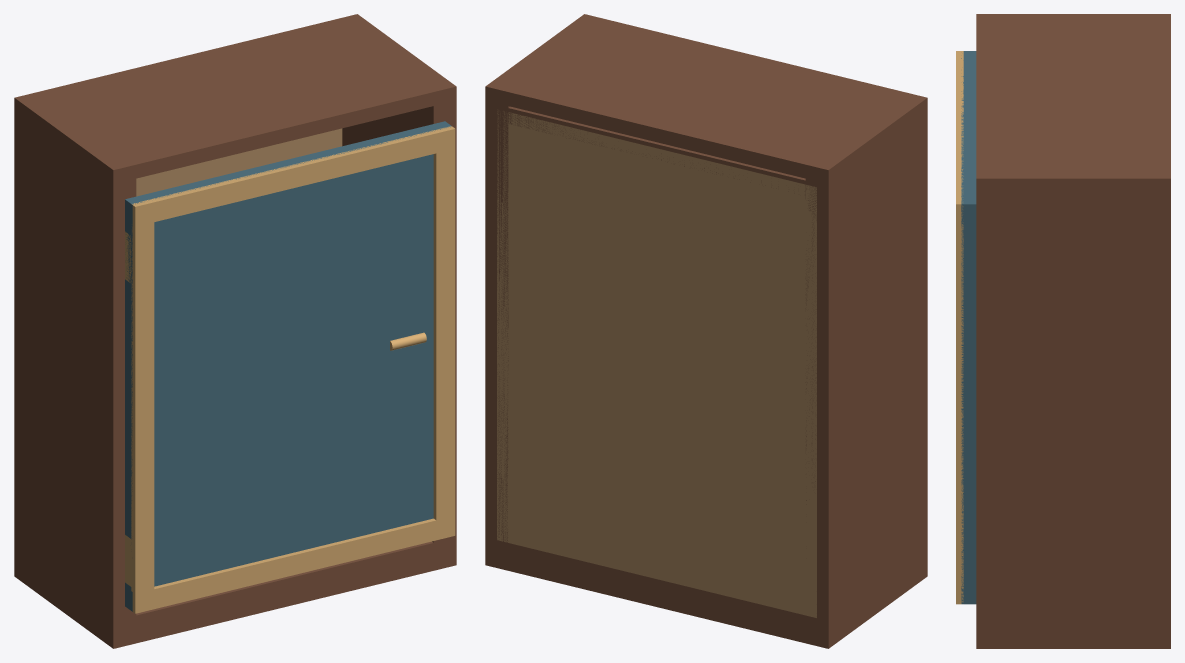
3 views of the same model, side by side, from view 1: azimuth 30°, elevation 25°; view 2: azimuth 150°, elevation 25°; view 3: azimuth 270°, elevation 25° (orthographic).
Visible parts, largest first — view 1: cabinet-door-leaf, cabinet-side-left, cabinet-top, cabinet-bottom, door-frame-left, door-frame-right, door-frame-top, door-frame-bottom, cabinet-inner-back, cabinet-side-right; view 2: cabinet-inner-back, cabinet-side-left, cabinet-top, cabinet-bottom, cabinet-side-right, cabinet-back-rail; view 3: cabinet-side-right, cabinet-top, cabinet-door-leaf, cabinet-bottom, door-frame-right, door-frame-top.
Part boxes in pixels (x1,y1,x2,y2): cabinet-door-leaf: [125, 121, 451, 611]; cabinet-side-left: [14, 110, 136, 628]; cabinet-top: [14, 14, 456, 183]; cabinet-bottom: [14, 537, 456, 648]; door-frame-left: [131, 222, 154, 593]; door-frame-right: [433, 149, 455, 520]; door-frame-top: [132, 126, 455, 226]; door-frame-bottom: [132, 516, 455, 613]; cabinet-inner-back: [136, 128, 342, 196]; cabinet-side-right: [342, 100, 456, 549]; cabinet-inner-back: [497, 109, 816, 617]; cabinet-side-left: [805, 110, 927, 628]; cabinet-top: [485, 14, 927, 183]; cabinet-bottom: [485, 537, 927, 648]; cabinet-side-right: [485, 98, 509, 550]; cabinet-back-rail: [497, 106, 816, 197]; cabinet-side-right: [976, 190, 1170, 629]; cabinet-top: [976, 14, 1170, 192]; cabinet-door-leaf: [961, 51, 976, 604]; cabinet-bottom: [976, 621, 1170, 648]; door-frame-right: [956, 224, 963, 584]; door-frame-top: [956, 51, 963, 223].
Size of the model in its own units: 0.9 by 1.2 by 0.497.
